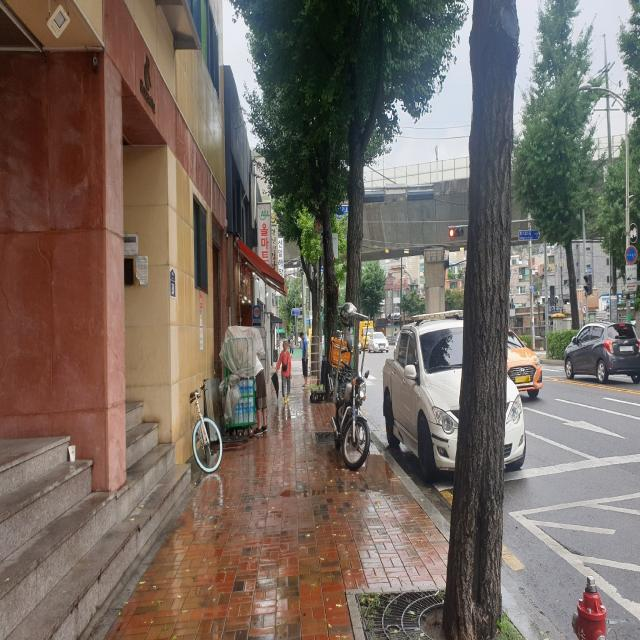car: (382, 314, 526, 478), (563, 322, 640, 384), (507, 328, 543, 400)
motorbike: (328, 302, 370, 472)
